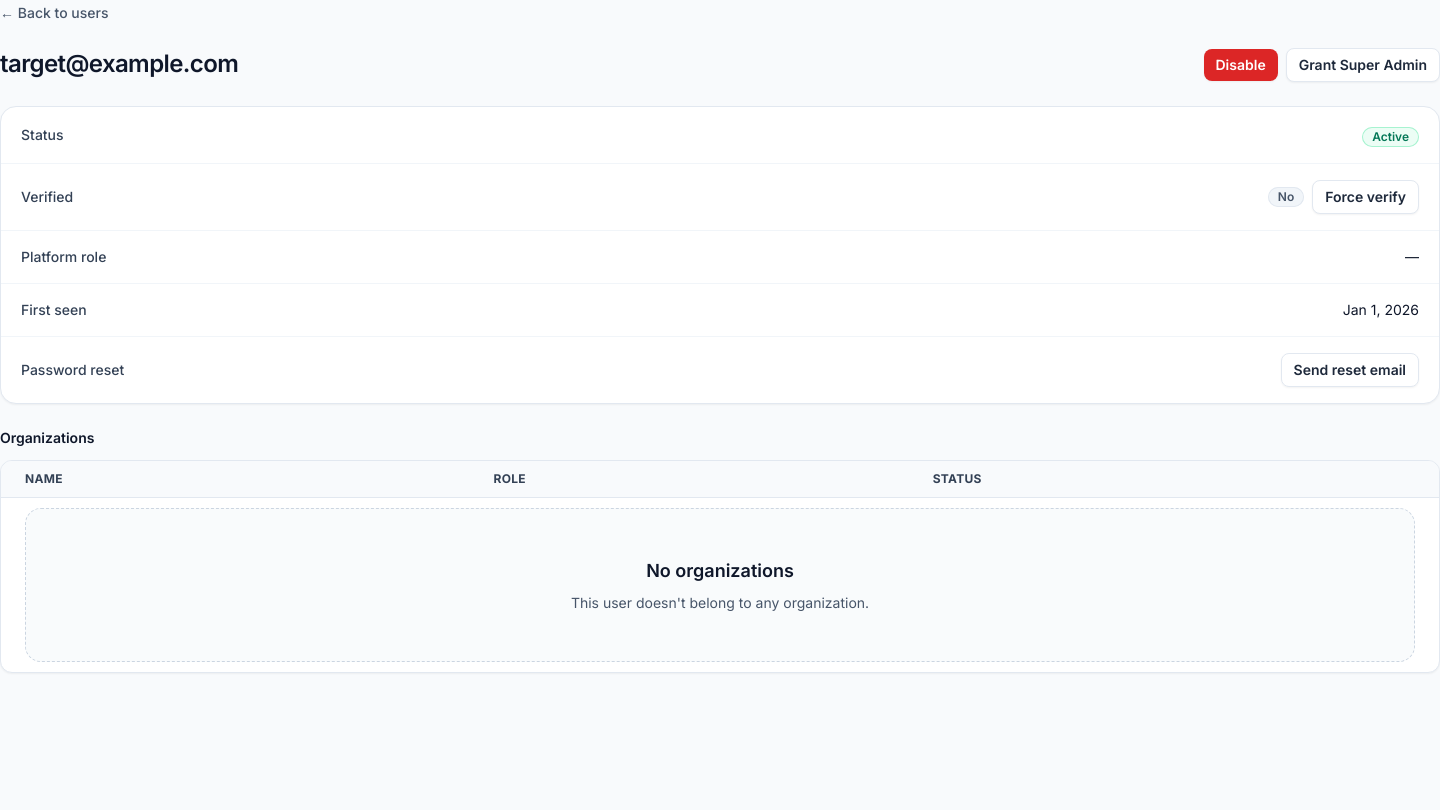
PlatformUserDetailPage actions › force-verify requires only a confirm click, no typed input
This screenshot has width=1440, height=810.
What coordinates should you click on to do the following:
click the button "Force verify"
I would click on:
 (1366, 197)
Its box is [1312,180,1419,214].
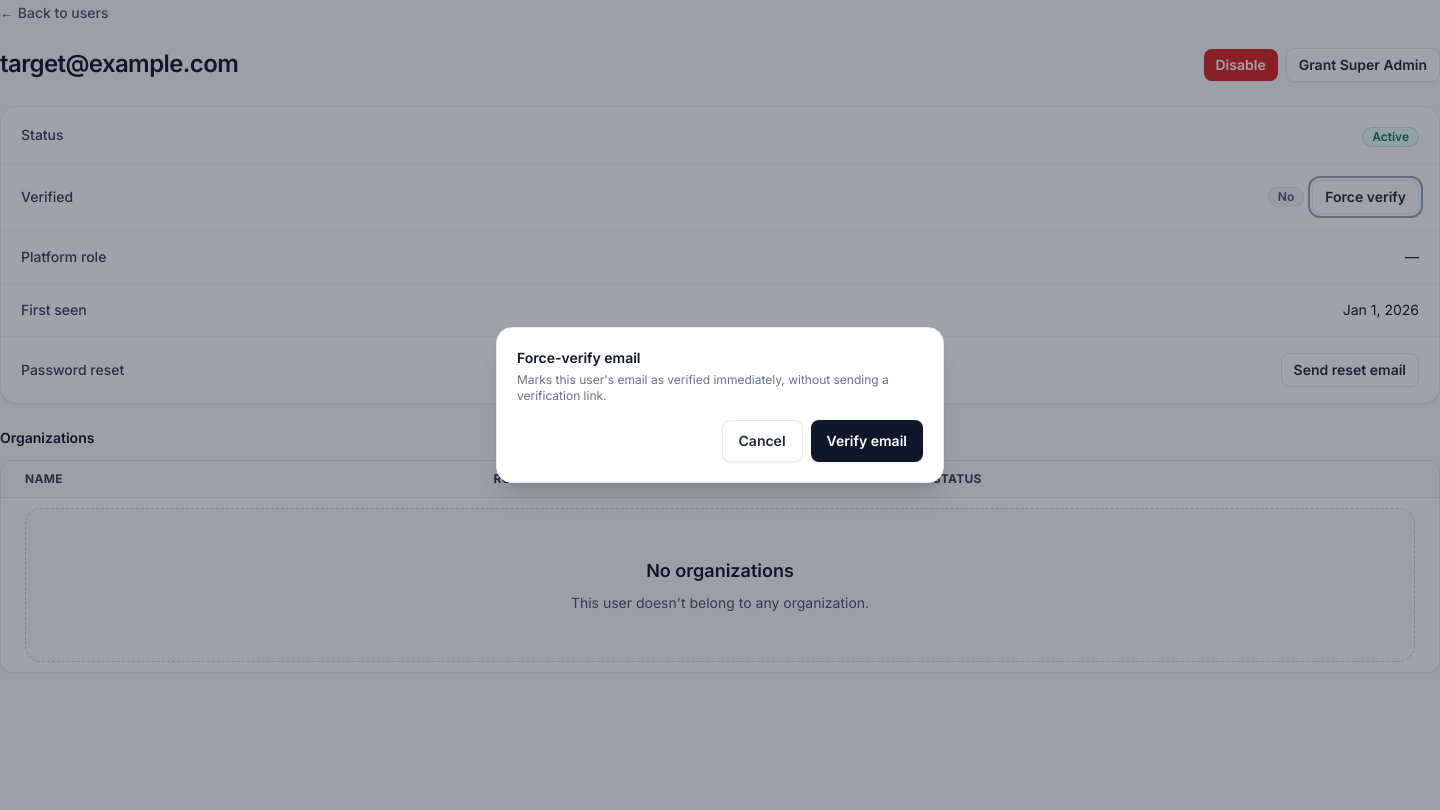
What coordinates should you click on to do the following:
click the button "Verify email"
I would click on:
 (867, 441)
Its box is [811,420,923,462].
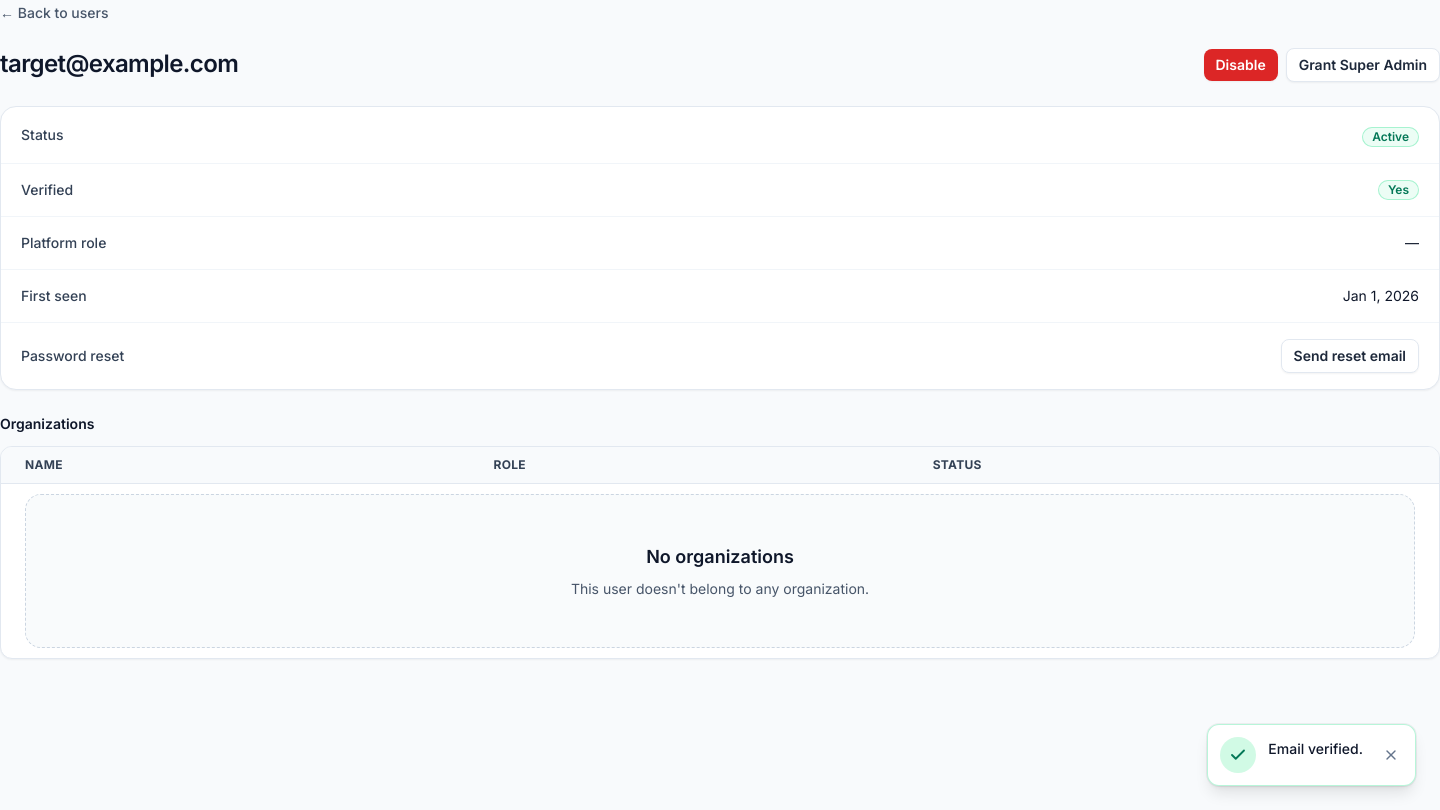
Check: the dialog is gone
